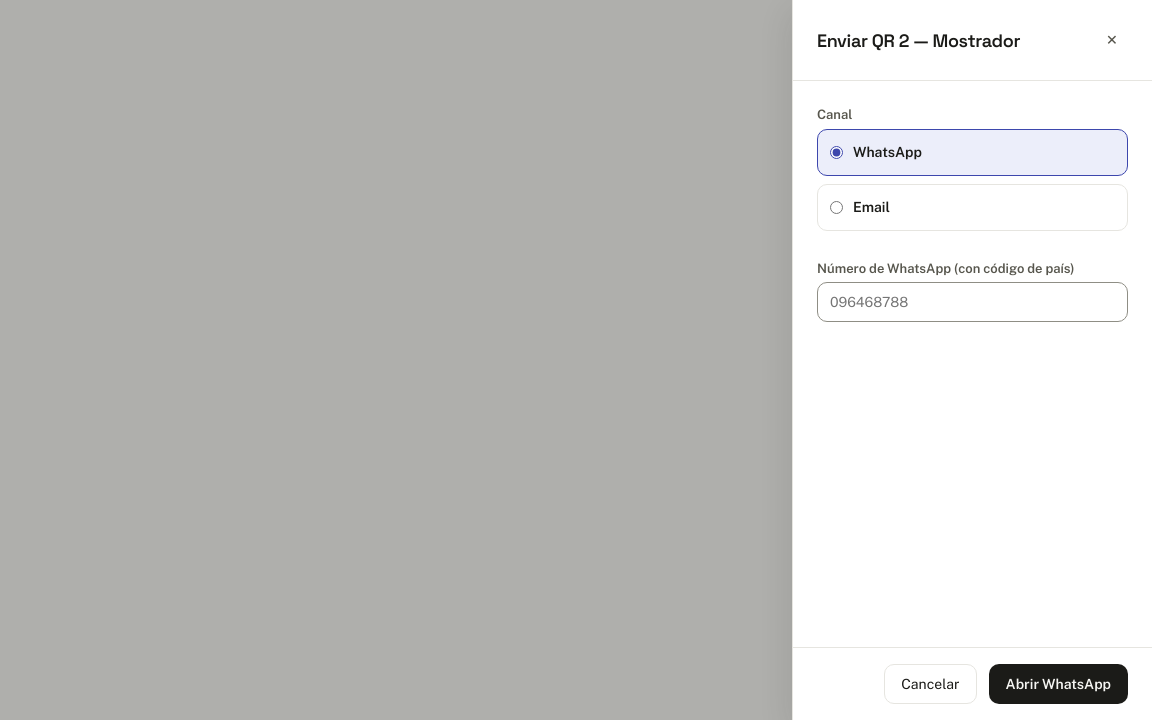
Test: QrSendDialog — Email › sin email, error
Click the radio button labelled "Email" at (836, 207), box [830,200,843,214]
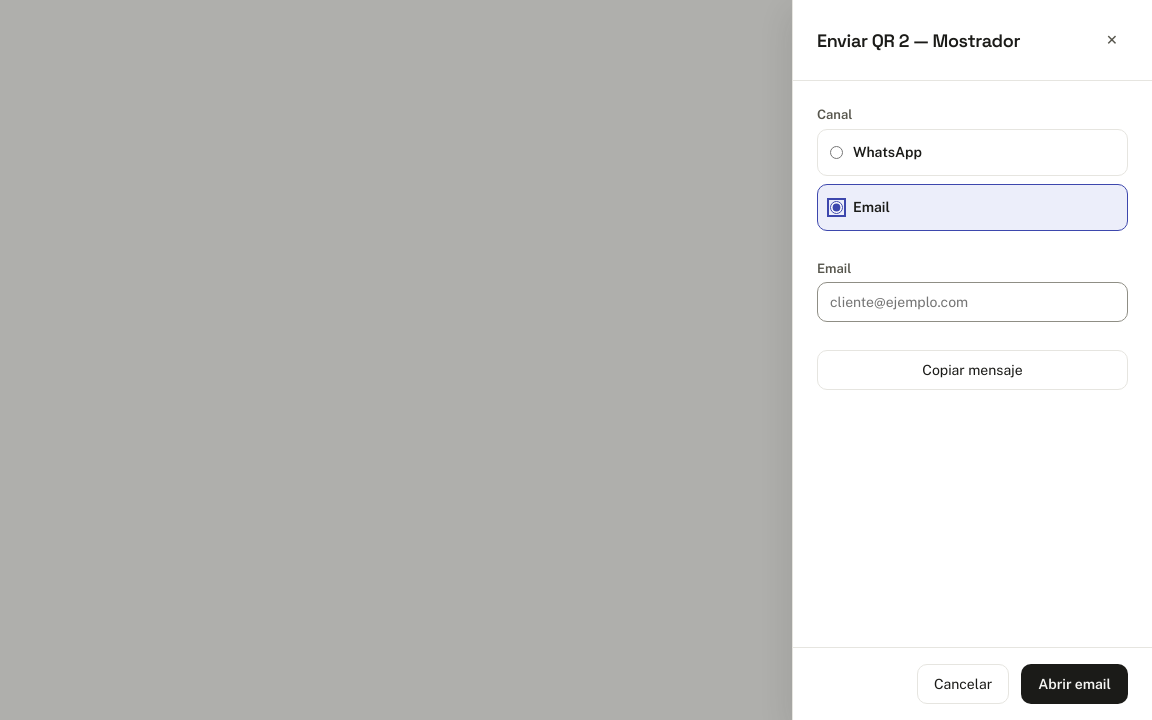
Click the button "Abrir email" at (1075, 684), box [1021,664,1128,704]
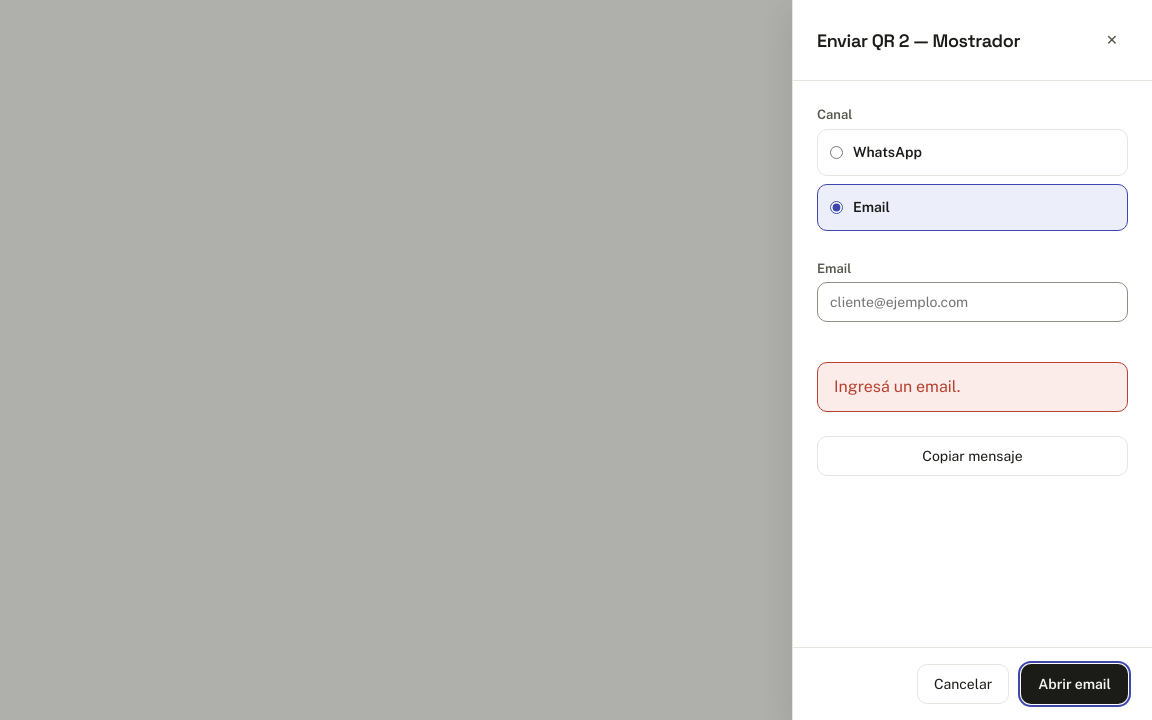
Now the message reads "Ingresá un email.", box [834,377,960,396]
